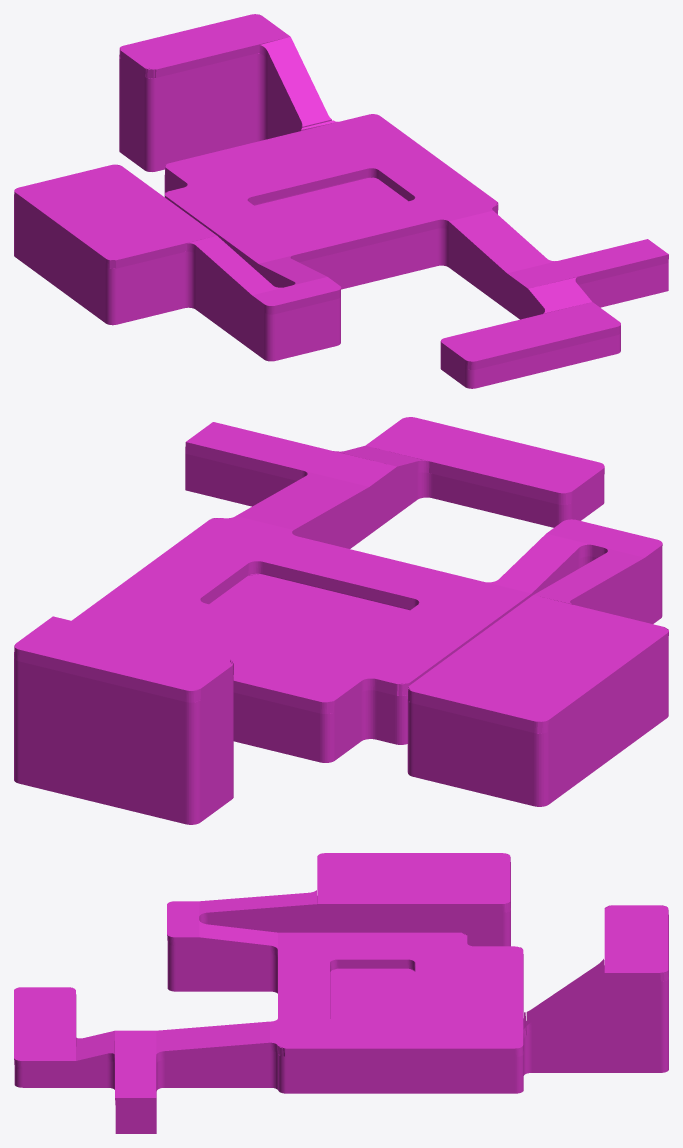
File: CuevaB7.fbx
3 renders of one model, top to bottom at view 1: azimuth 30°, elevation 25°; view 2: azimuth 150°, elevation 25°; view 3: azimuth 270°, elevation 25°, orthographic. The views are drawn at different scales.
Visible parts, largest first — view 1: Cube.001; view 2: Cube.001; view 3: Cube.001.
Part boxes in pixels (bbox=[...]): Cube.001: bbox=[14, 14, 668, 388]; Cube.001: bbox=[14, 417, 668, 824]; Cube.001: bbox=[14, 853, 668, 1133].
Size of the model in its own units: 0.8 by 1.02 by 0.1718.
